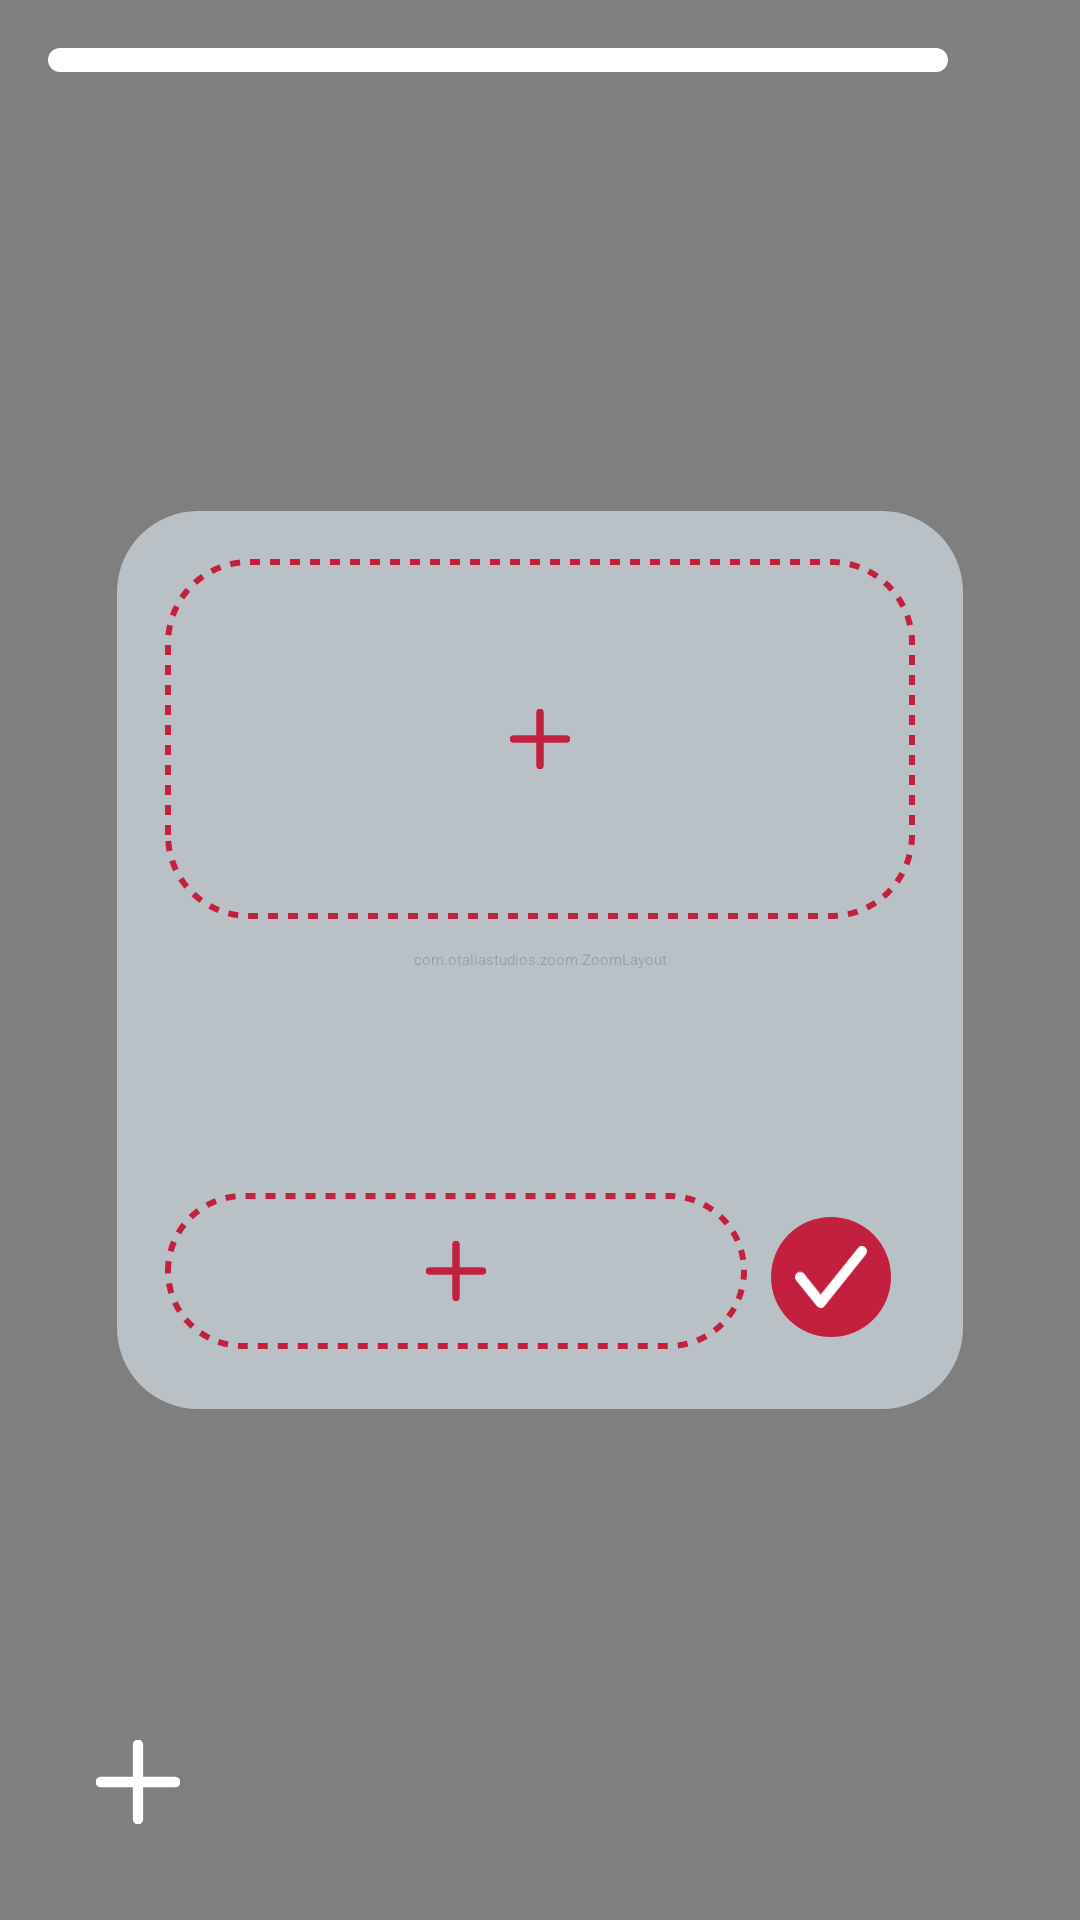

Named icons in this screenshot (1080w x 1920h) and their centers, point (x, y):
checkmark: point (831, 1277)
plus: point (540, 739), point (456, 1271), point (138, 1782)
